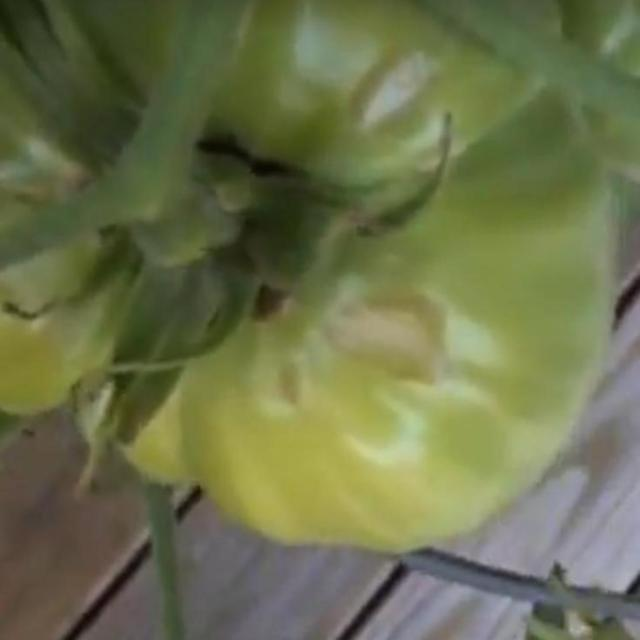Sunscald Fruit: (68, 60, 263, 238)
